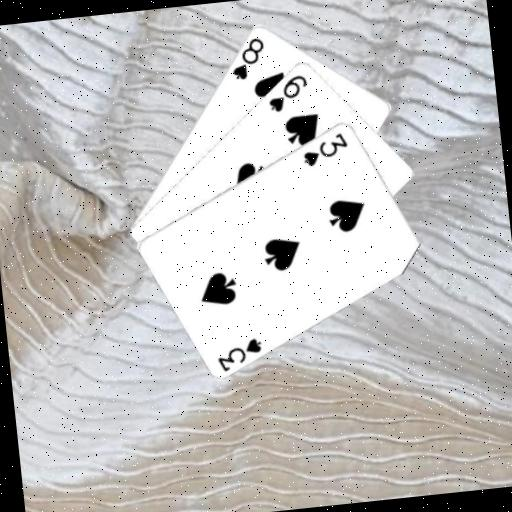3S: (298, 128, 351, 168), (213, 334, 266, 374)
6S: (263, 70, 312, 115)
8S: (225, 33, 269, 82)
